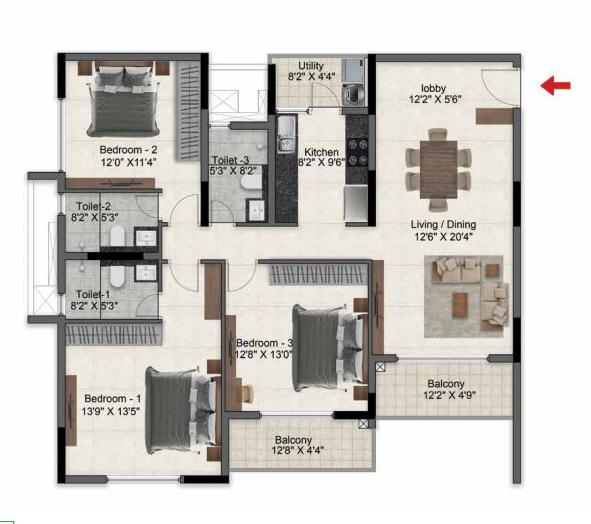Balcony: (376, 356, 515, 420), (226, 416, 377, 470)
Bed: (81, 56, 163, 137), (146, 368, 222, 451), (296, 305, 365, 388)
Bedroom: (62, 321, 226, 482), (226, 268, 374, 415), (58, 59, 202, 187)
Dining Room: (378, 120, 513, 245)
Dining table: (402, 129, 475, 213)
Kitchen: (271, 112, 373, 225)
Living Room: (379, 246, 512, 359)
Sofa: (481, 282, 509, 327), (434, 259, 480, 284)
Wardrobe: (268, 262, 373, 289), (176, 57, 200, 162), (64, 321, 160, 343)
commode: (109, 225, 126, 247), (108, 267, 124, 289), (241, 174, 262, 189)
door: (482, 69, 518, 109), (167, 262, 198, 294), (169, 195, 199, 225), (227, 263, 258, 292), (312, 84, 340, 108), (135, 293, 159, 320), (212, 200, 234, 225), (136, 195, 158, 217)
kitchen-slab: (345, 114, 369, 186), (276, 154, 298, 226)
lobby: (372, 59, 517, 115)
sink: (277, 113, 296, 153), (136, 264, 156, 280), (248, 200, 264, 220), (135, 231, 157, 245)
stove: (346, 138, 369, 166)
toilet: (201, 127, 274, 224), (62, 189, 159, 255), (61, 258, 159, 316)
tv: (222, 314, 239, 409), (59, 374, 81, 447), (60, 176, 155, 190)
utility: (272, 57, 373, 110)
